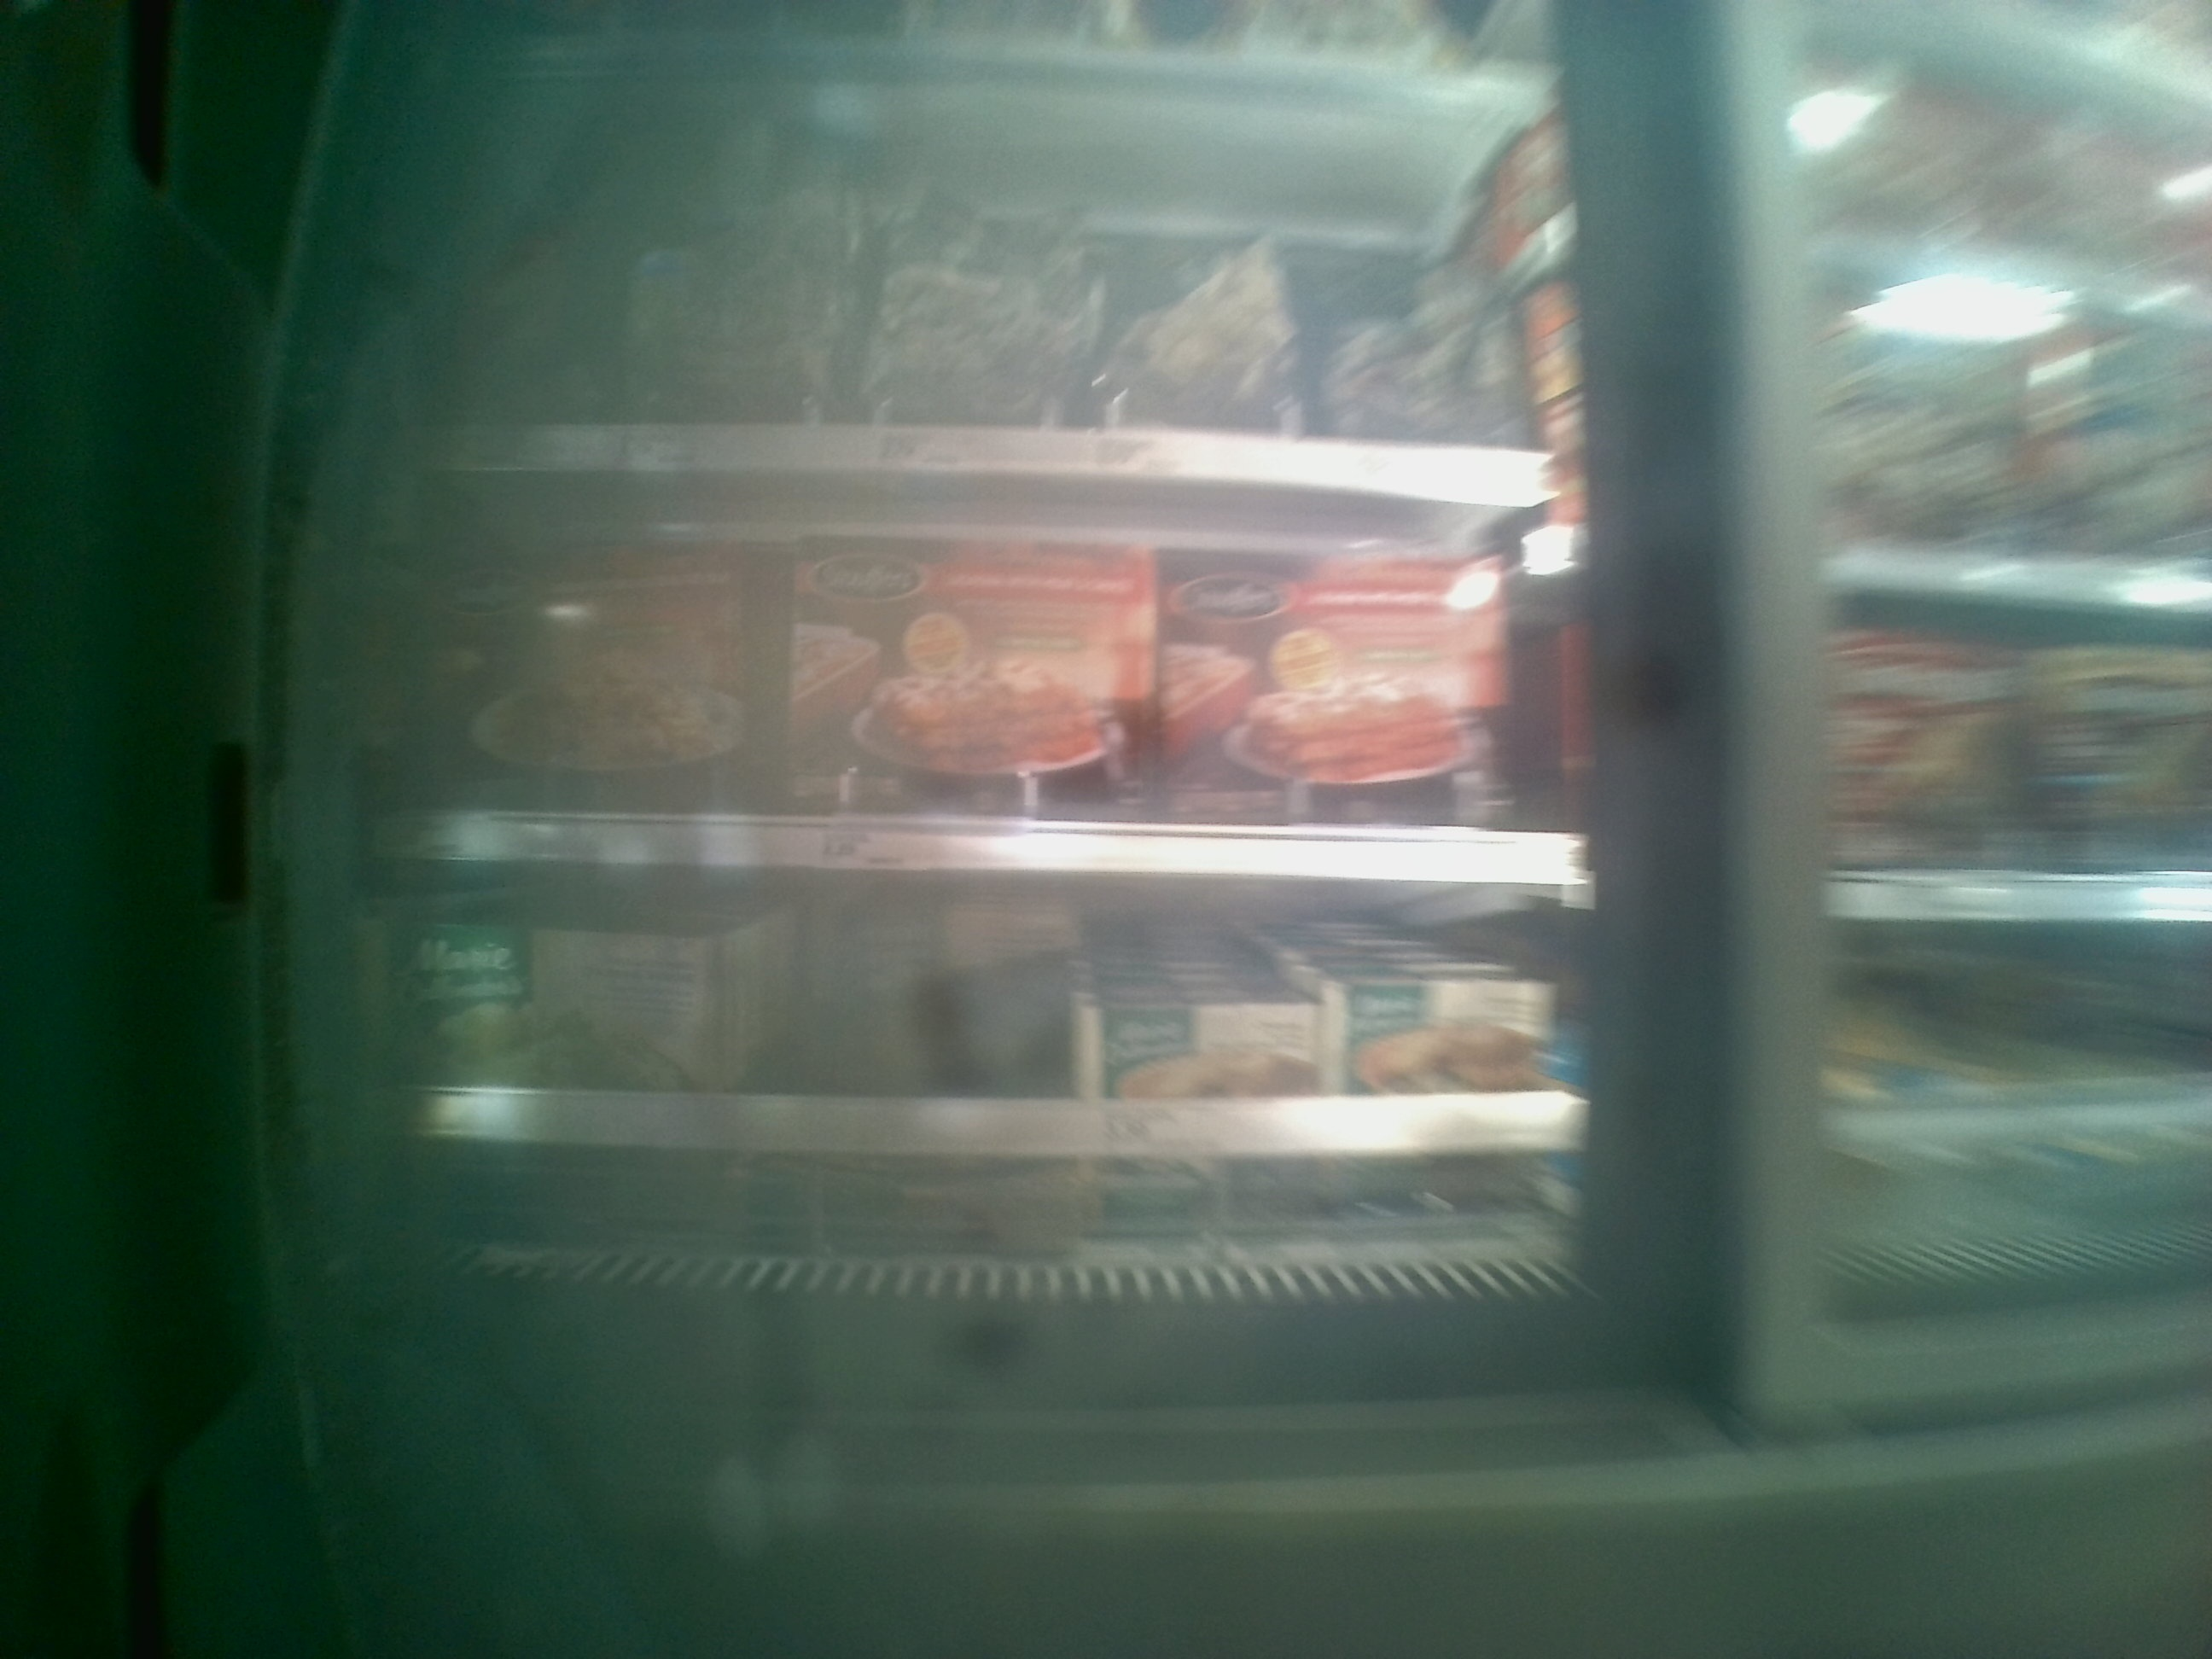shelf: (354, 847, 1618, 1310), (381, 460, 1594, 870)
